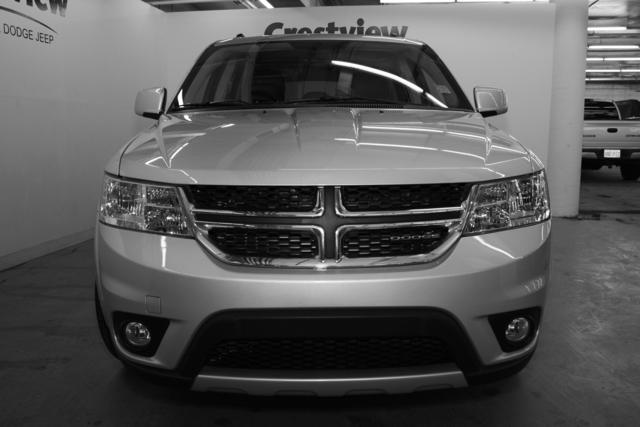car: (95, 35, 553, 390)
